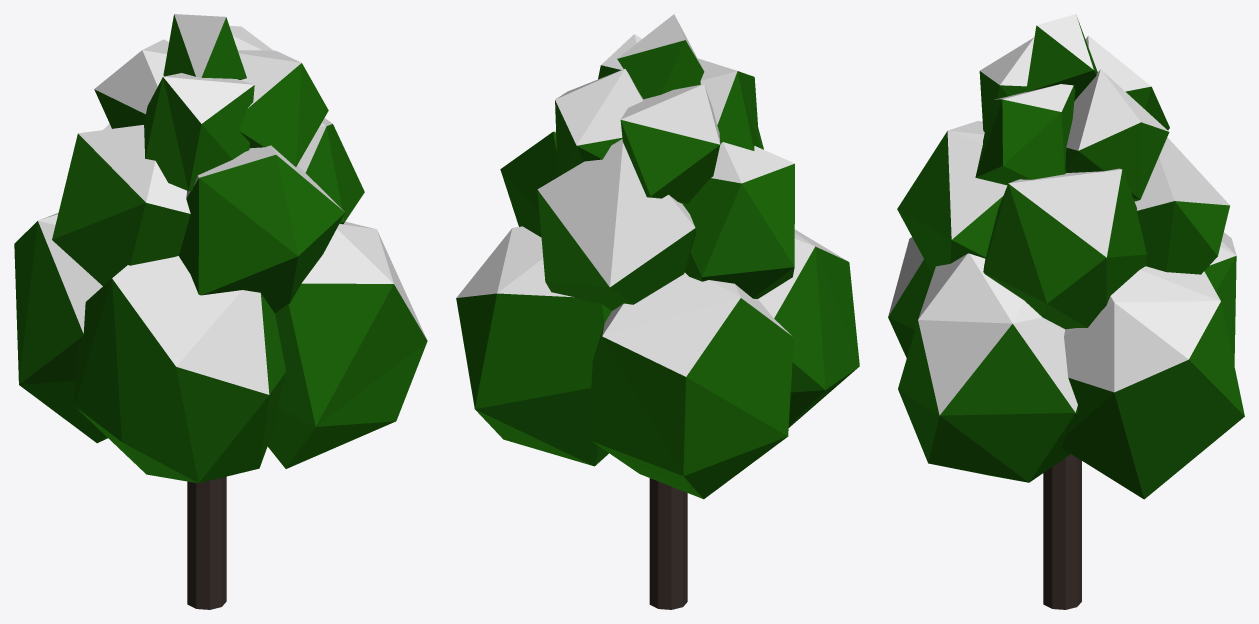
The model's file is Simple_Tree_8_Winter.fbx.
3 views of the same model, side by side, from view 1: azimuth 30°, elevation 25°; view 2: azimuth 150°, elevation 25°; view 3: azimuth 270°, elevation 25° (orthographic). The views are drawn at different scales.
Parts seen in each view (by area): view 1: Simple_Tree_8_Winter; view 2: Simple_Tree_8_Winter; view 3: Simple_Tree_8_Winter.
Part boxes in pixels (x1=…): Simple_Tree_8_Winter: x1=14, y1=14, x2=427, y2=609; Simple_Tree_8_Winter: x1=456, y1=14, x2=859, y2=609; Simple_Tree_8_Winter: x1=888, y1=14, x2=1244, y2=609.
Size of the model in its own units: 452 by 793 by 443.
